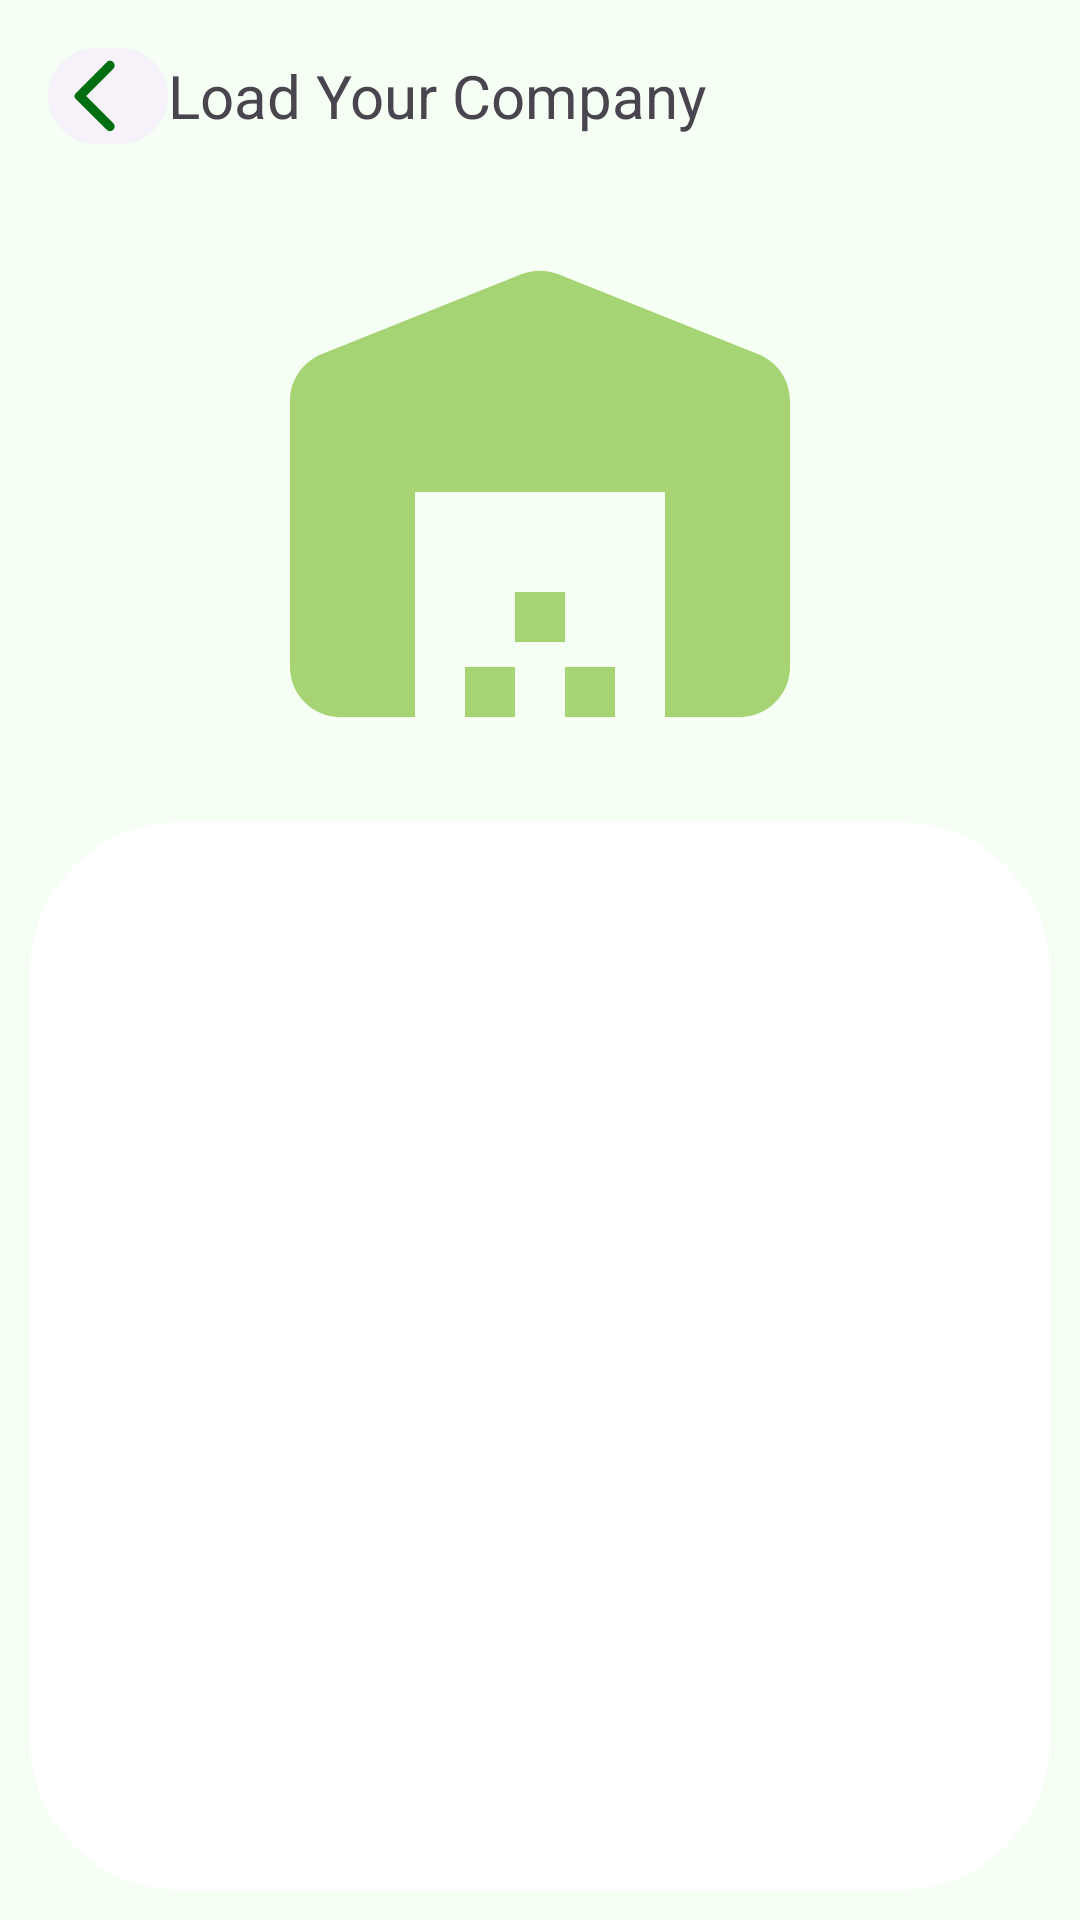

Locate icon controls on the screen. Image size 1080w x 1920h, boxes as (x1, y1, x2, y2).
back: (48, 48, 168, 144)
